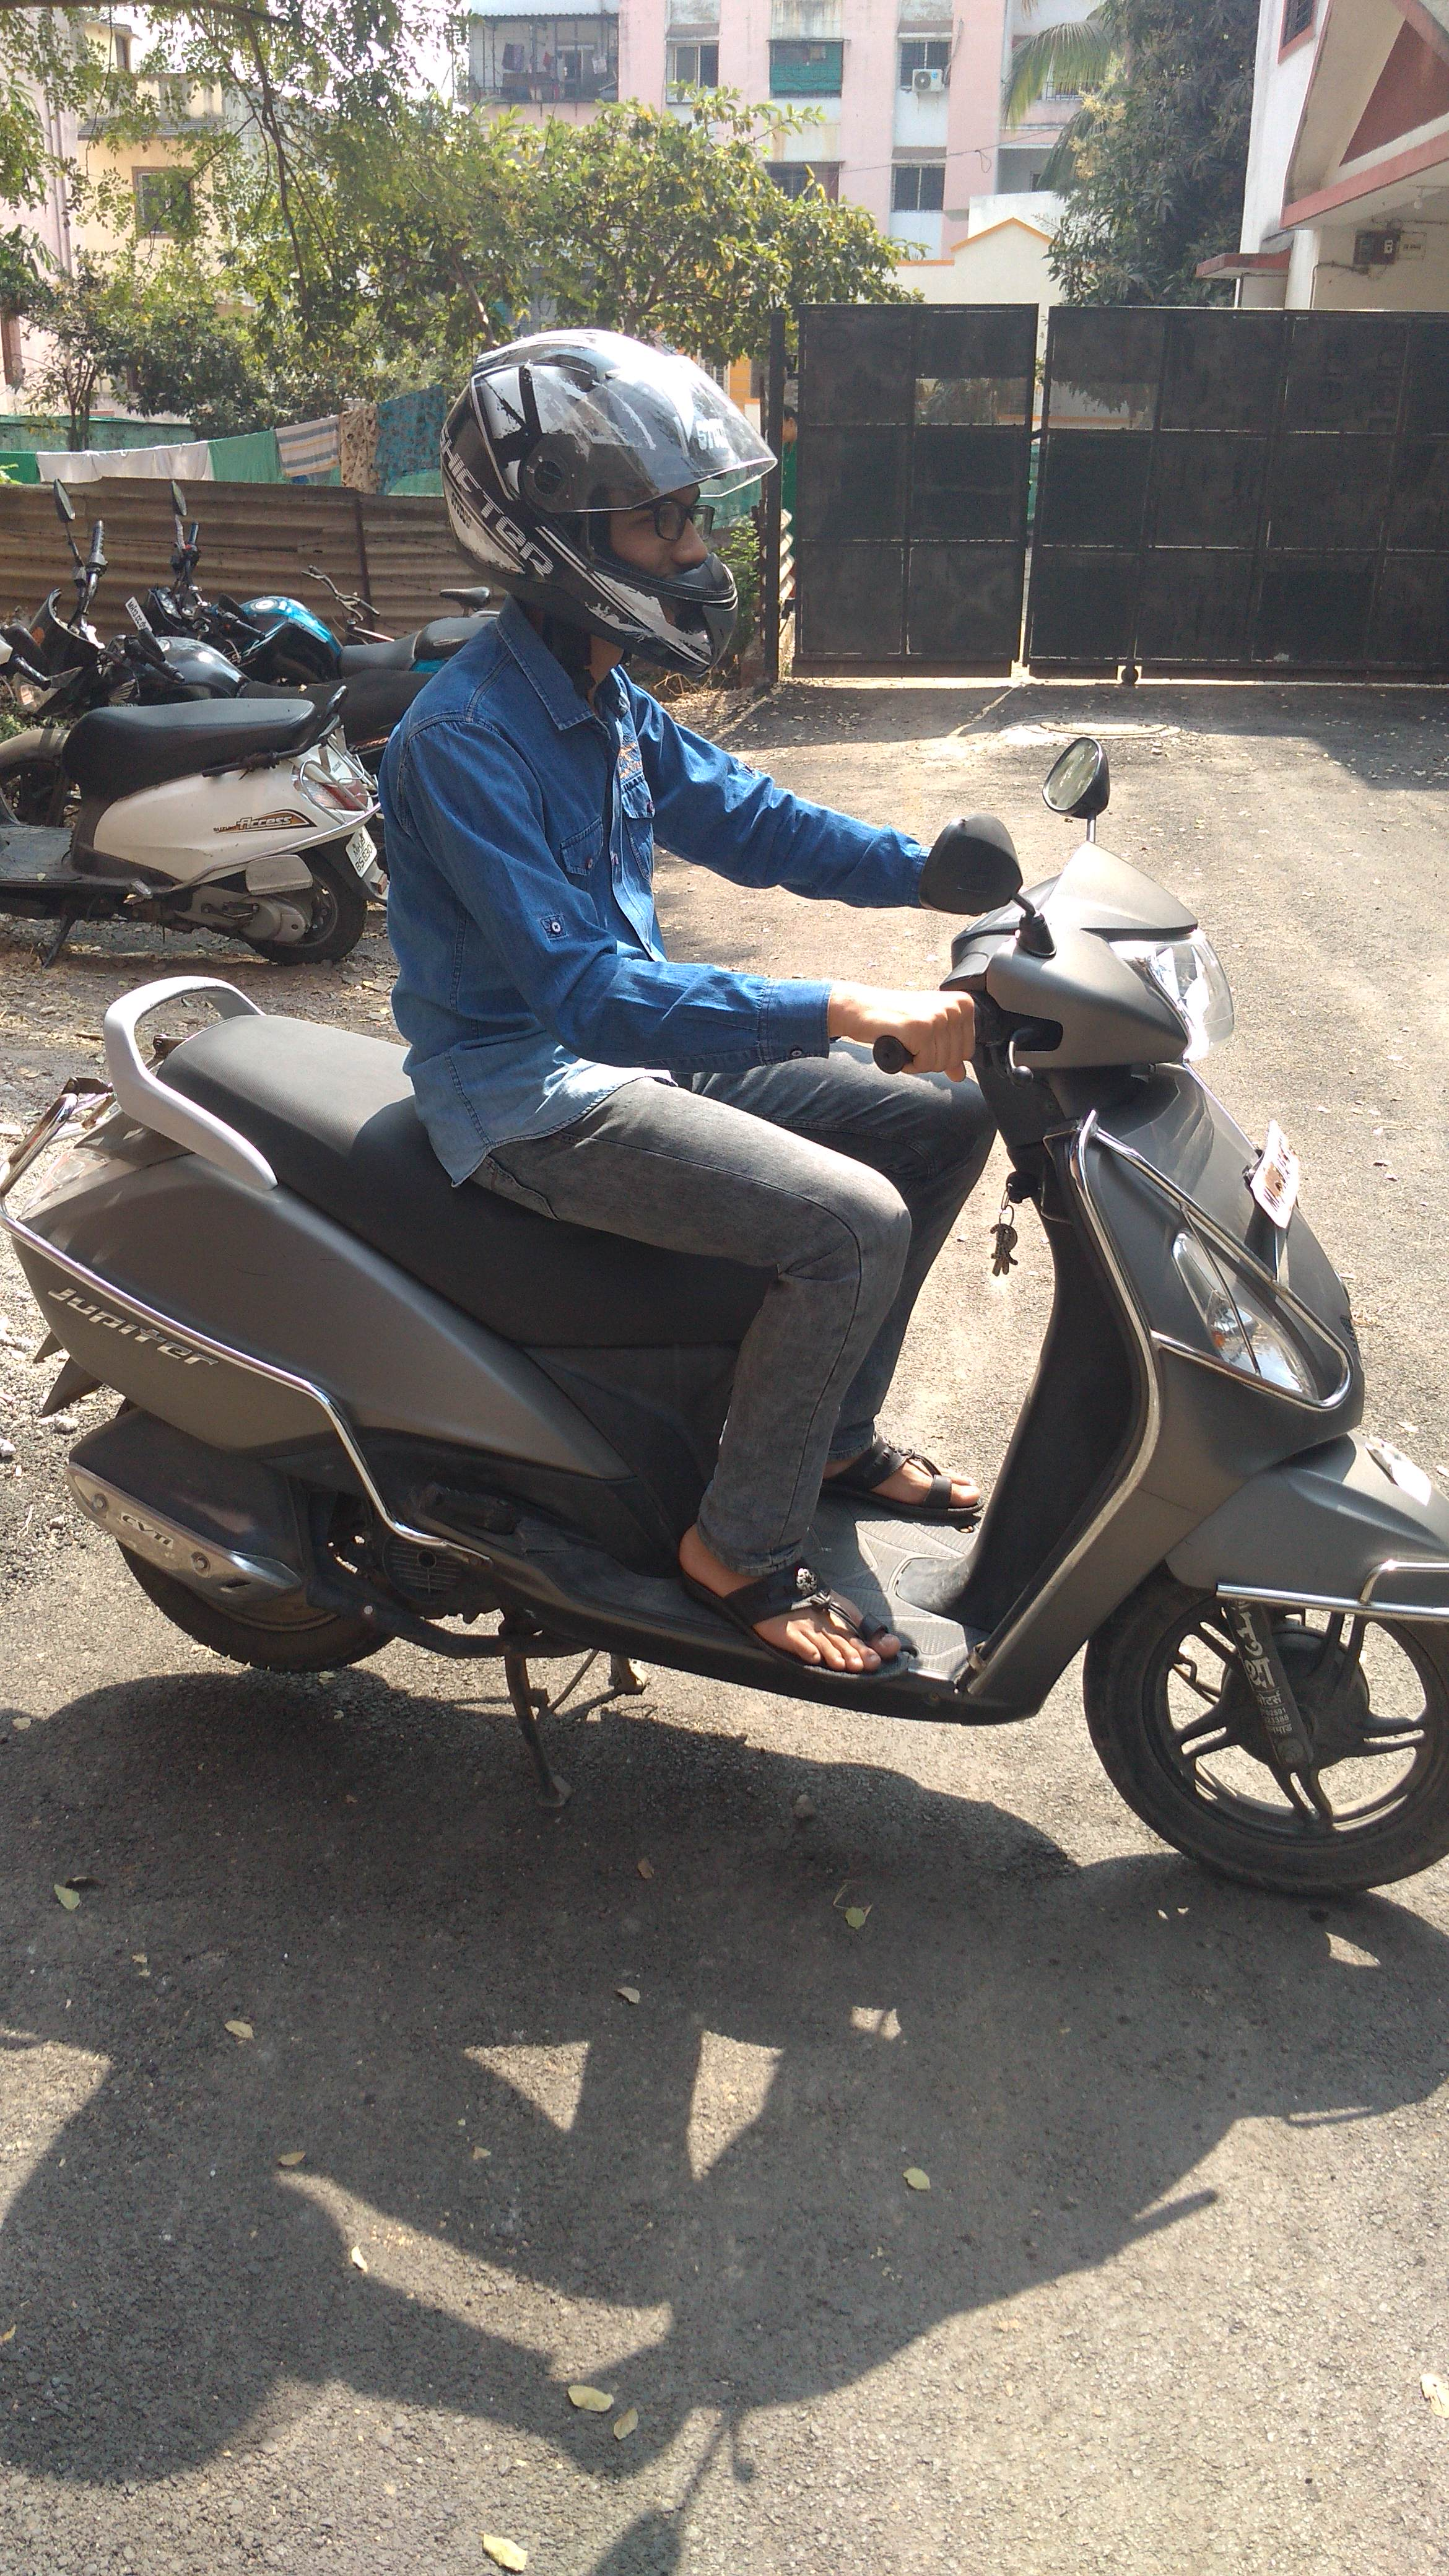helmet: (329, 297, 993, 1362)
